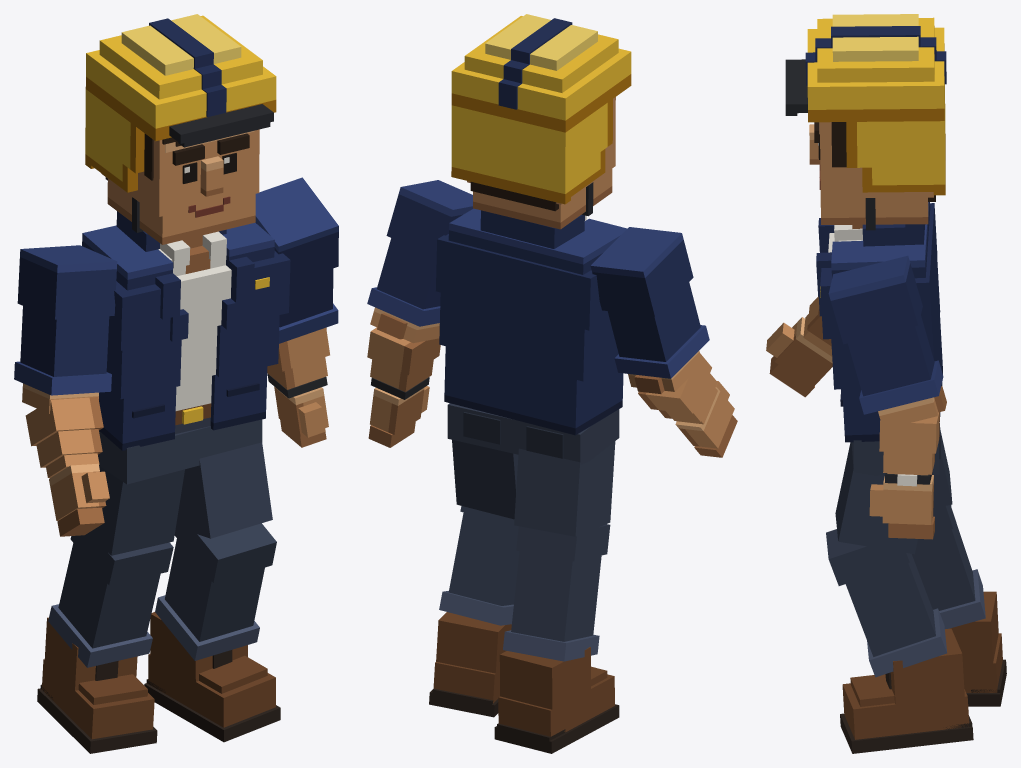
The model's file is city-rider.glb.
3 views of the same model, side by side, from view 1: azimuth 30°, elevation 25°; view 2: azimuth 150°, elevation 25°; view 3: azimuth 270°, elevation 25° (orthographic). The views are drawn at different scales.
Visible parts, largest first — view 1: thigh_L, shin_R, shin_L, thigh_R, helmet_shell, face, hips_jeans, sleeve_R, shoulder_R, boot_foot_L, shoulder_top_L, boot_foot_R (+59 smaller); view 2: helmet_back, thigh_R, shin_R, shin_L, helmet_shell, jacket_ribs_R, jacket_waist_R, boot_shaft_R, sleeve_R, thigh_L, shoulder_R, hips_jeans (+47 smaller); view 3: shin_L, helmet_shell, sleeve_L, boot_foot_L, shoulder_L, shin_R, helmet_step, thigh_L, helmet_side_L, boot_shaft_L, helmet_crown, knee_L (+40 smaller).
Boxes of the visible parts, bbox=[...] form: thigh_L: bbox=[176, 442, 272, 538]; shin_R: bbox=[58, 543, 160, 648]; shin_L: bbox=[165, 539, 264, 641]; thigh_R: bbox=[89, 466, 184, 555]; helmet_shell: bbox=[86, 50, 276, 128]; face: bbox=[101, 129, 259, 216]; hips_jeans: bbox=[98, 419, 262, 484]; sleeve_R: bbox=[20, 306, 109, 376]; shoulder_R: bbox=[17, 257, 116, 319]; boot_foot_L: bbox=[148, 654, 275, 727]; shoulder_top_L: bbox=[255, 177, 338, 252]; boot_foot_R: bbox=[42, 659, 154, 739]; helmet_back: bbox=[451, 105, 571, 193]; thigh_R: bbox=[514, 441, 615, 536]; shin_R: bbox=[511, 551, 601, 641]; shin_L: bbox=[448, 512, 519, 605]; helmet_shell: bbox=[451, 48, 631, 120]; jacket_ribs_R: bbox=[529, 315, 618, 381]; jacket_waist_R: bbox=[527, 362, 623, 428]; boot_shaft_R: bbox=[499, 647, 590, 709]; sleeve_R: bbox=[607, 282, 700, 361]; thigh_L: bbox=[452, 440, 518, 519]; shoulder_R: bbox=[592, 240, 693, 316]; hips_jeans: bbox=[447, 403, 619, 464]; shin_L: bbox=[845, 553, 935, 656]; helmet_shell: bbox=[807, 27, 944, 109]; sleeve_L: bbox=[848, 315, 934, 396]; boot_foot_L: bbox=[842, 683, 969, 739]; shoulder_L: bbox=[831, 263, 922, 344]; shin_R: bbox=[912, 508, 975, 610]; helmet_step: bbox=[817, 17, 934, 82]; thigh_L: bbox=[835, 442, 917, 554]; helmet_side_L: bbox=[857, 121, 933, 167]; boot_shaft_L: bbox=[885, 628, 964, 704]; helmet_crown: bbox=[832, 14, 918, 61]; knee_L: bbox=[826, 529, 909, 585].
Bounding box in the file's own units: 0.9075 × 1.94 × 0.6168.
